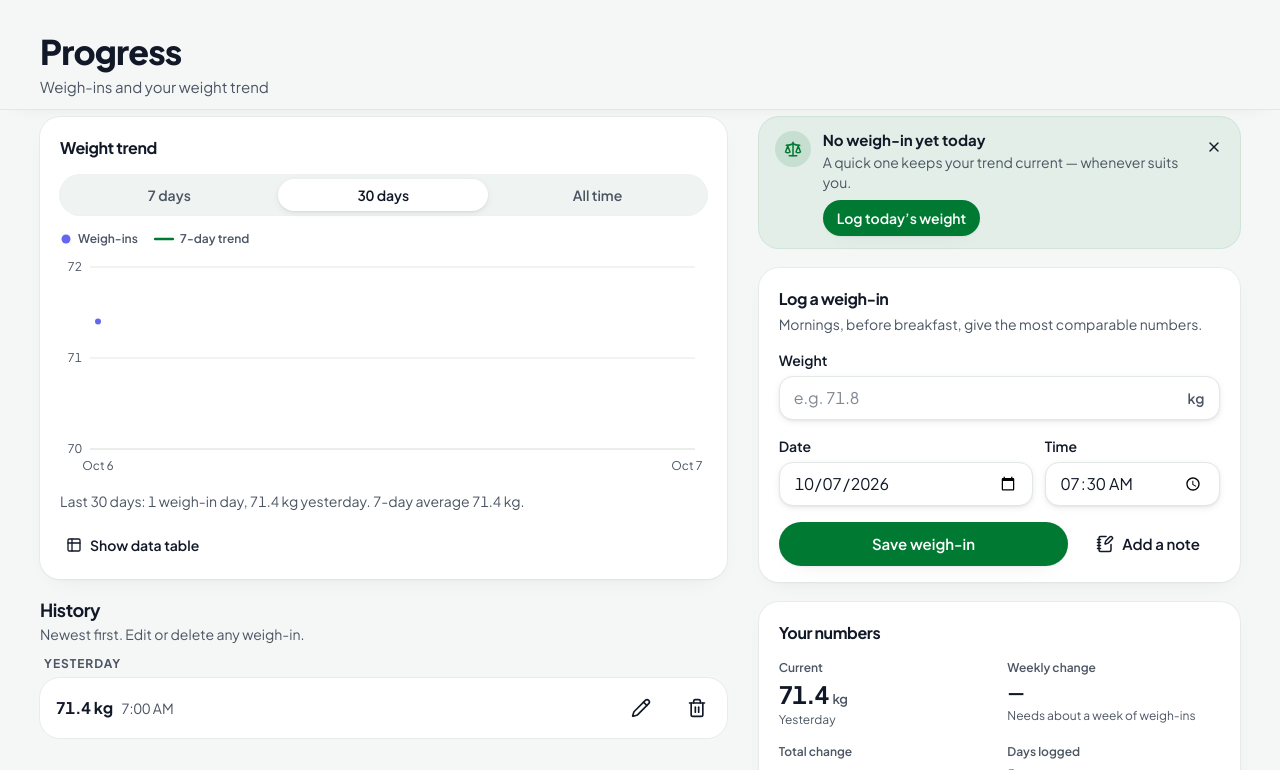
it: Progress: weigh-in reminder › nudges gently when today has no weigh-in and goes away once logged
Check: the heading "Log a weigh-in" is shown, box [779,288,888,309]
Check: the element "No weigh-in yet today" shows "A quick one keeps your trend current — whenever suits you.", box [823,153,1178,191]
Click the button "Log today’s weight" at x=901, y=218, box [823,200,980,236]
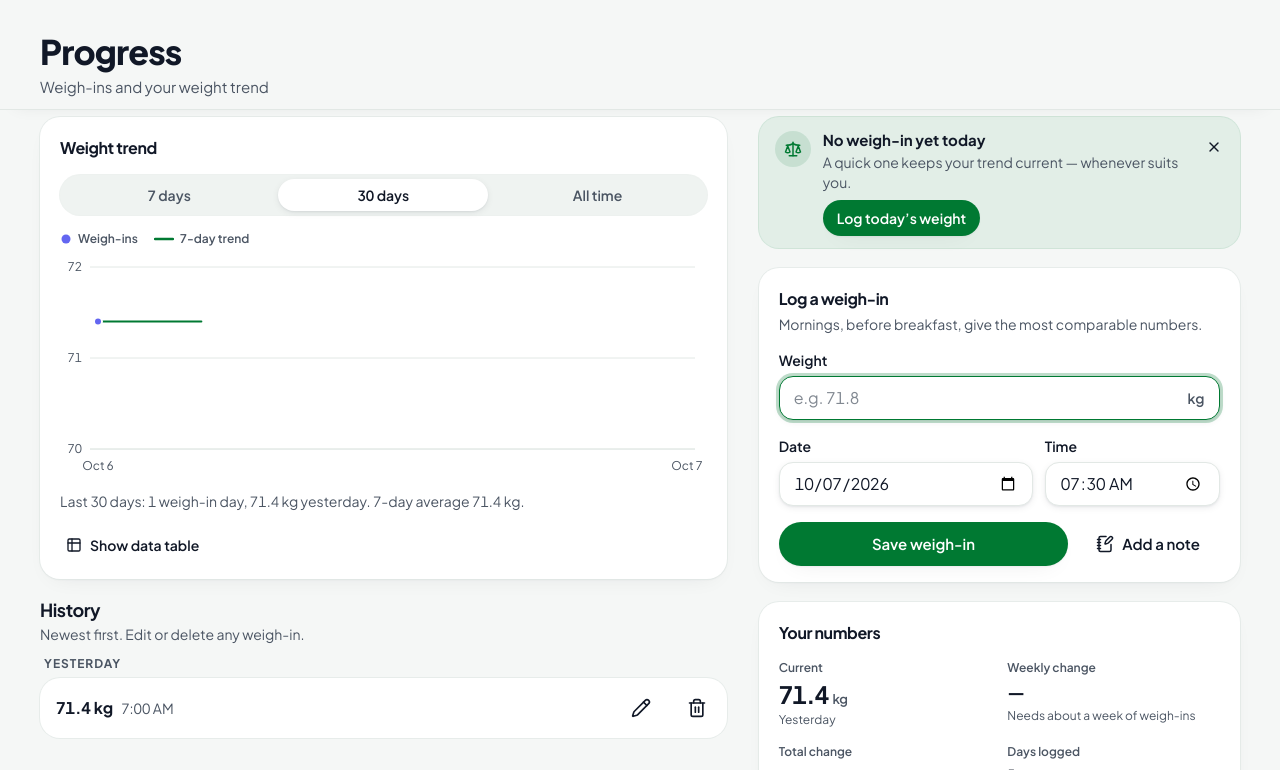
Type "71.1" into the field labelled "Weight" at x=999, y=398, box [779,376,1220,420]
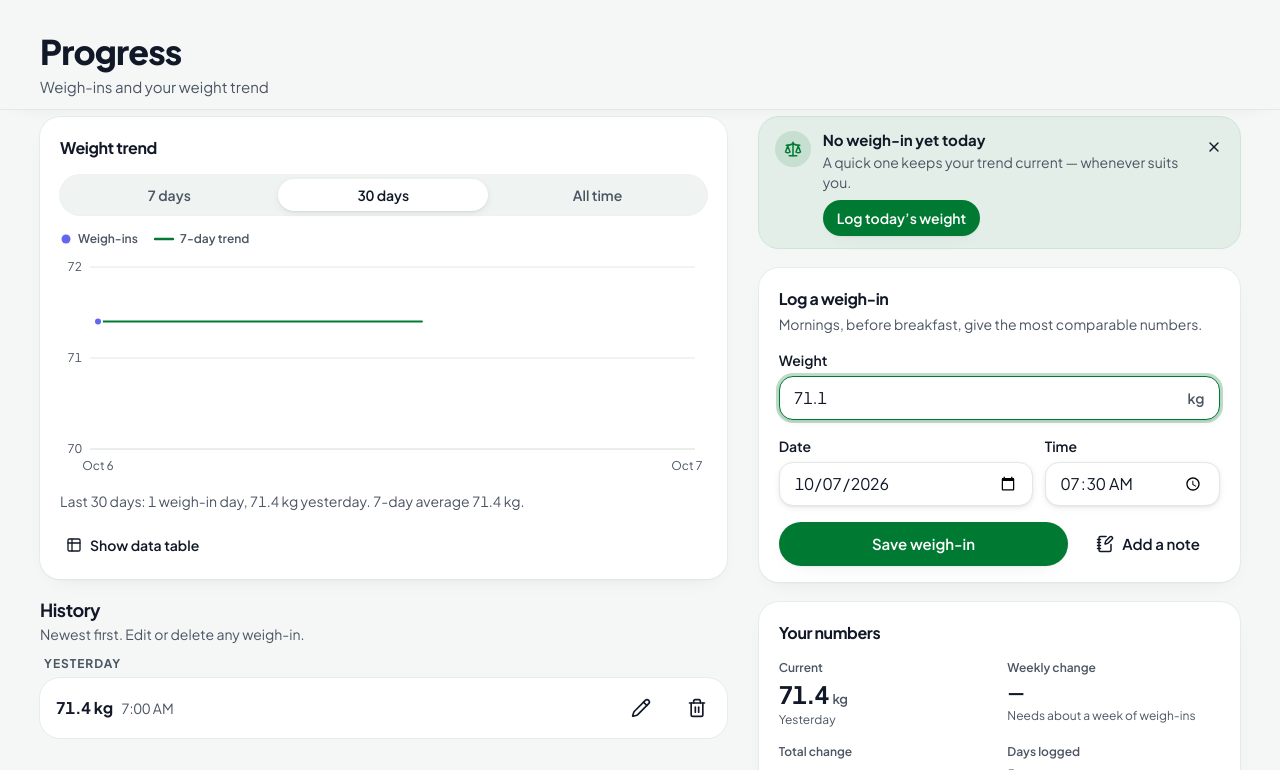
Click the button "Save weigh-in" at x=924, y=544, box [779,522,1068,566]
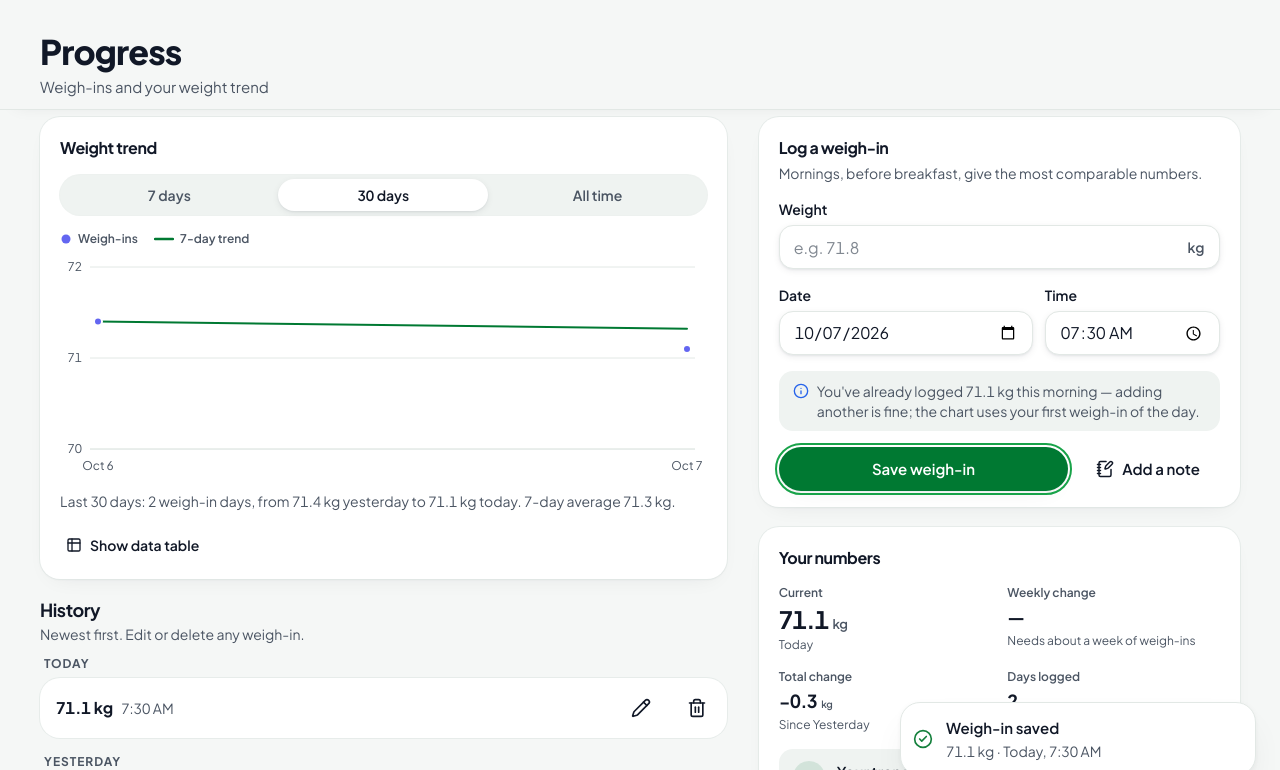
Check: the text "Weigh-in saved" is shown, box [946,718,1059,736]
Check: the heading "No weigh-in yet today" is gone
